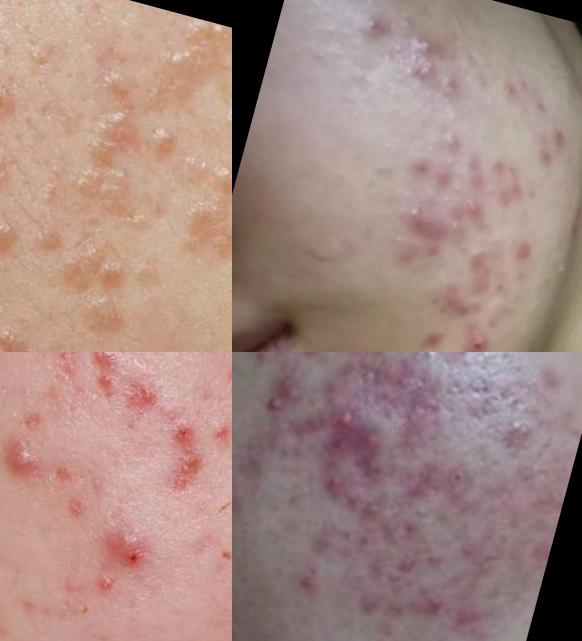acne_scars: (456, 143, 545, 214), (444, 228, 526, 305), (150, 415, 213, 512), (427, 276, 495, 328), (114, 386, 173, 440), (87, 353, 122, 413), (40, 353, 82, 394), (493, 73, 533, 108)
flat_wart: (62, 98, 188, 239), (44, 229, 154, 346), (136, 12, 233, 119), (156, 142, 233, 275), (1, 42, 53, 144), (1, 317, 113, 353), (21, 209, 78, 266), (1, 197, 41, 270), (1, 134, 24, 227)
papular: (305, 384, 399, 473), (400, 446, 484, 512), (95, 522, 166, 588), (254, 370, 321, 434), (446, 522, 518, 579), (346, 578, 418, 633), (314, 457, 379, 517), (405, 572, 473, 627), (488, 401, 546, 460), (435, 596, 504, 641), (391, 497, 442, 549), (397, 147, 444, 194), (353, 1, 398, 49), (391, 193, 440, 237), (287, 565, 336, 609), (405, 23, 455, 65), (415, 318, 453, 353), (437, 64, 466, 104), (441, 129, 469, 166), (461, 326, 499, 353), (458, 195, 494, 223)
purulent: (6, 442, 62, 493)
whitehead: (525, 126, 579, 178), (408, 49, 451, 94), (406, 353, 457, 377), (545, 253, 578, 289), (439, 215, 474, 246), (385, 224, 417, 257), (399, 57, 422, 85), (385, 37, 408, 64)
